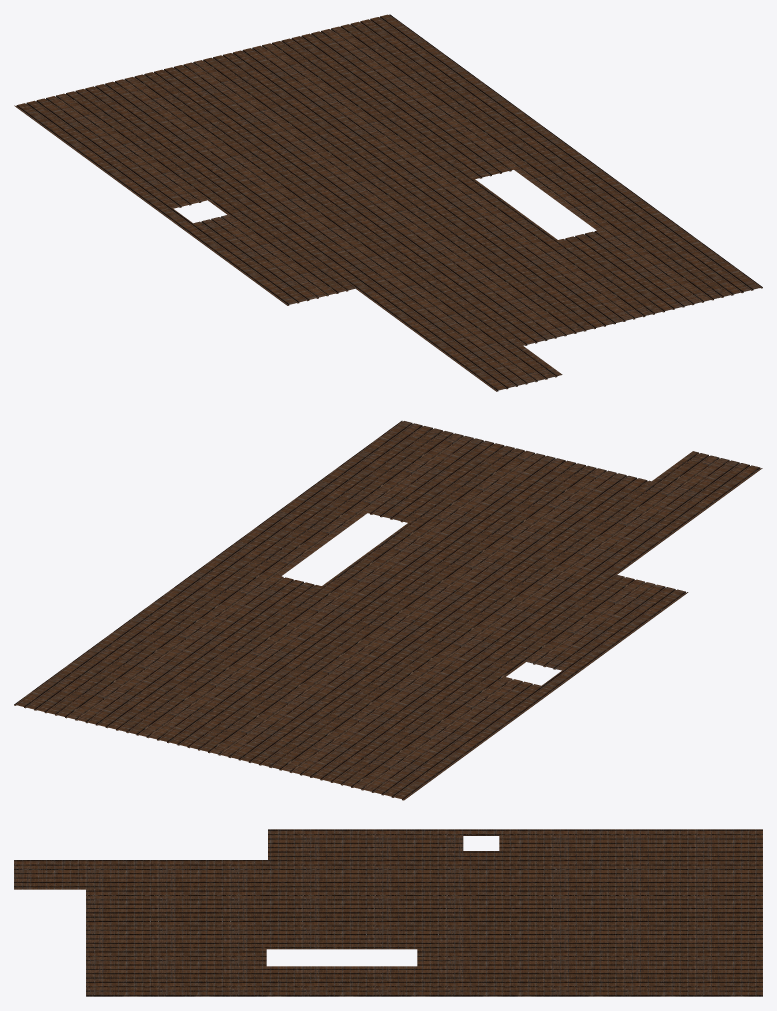
The model's file is HouseRoof.fbx.
3 renders of one model, top to bottom at view 1: azimuth 30°, elevation 25°; view 2: azimuth 150°, elevation 25°; view 3: azimuth 270°, elevation 25°, orthographic. The views are drawn at different scales.
Visible parts, largest first — view 1: Teto; view 2: Teto; view 3: Teto.
Part boxes in pixels (x1,y1,x2,y2): Teto: (14,14,762,391); Teto: (14,420,762,800); Teto: (14,829,762,996).
Size of the model in its own units: 1093 by 2.4 by 2081.
